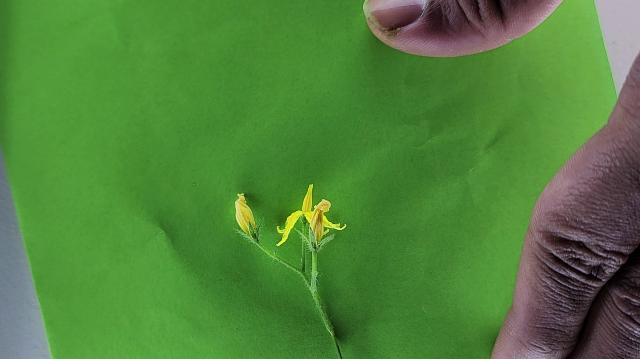Anthesis: (276, 183, 347, 248), (233, 192, 258, 240)
